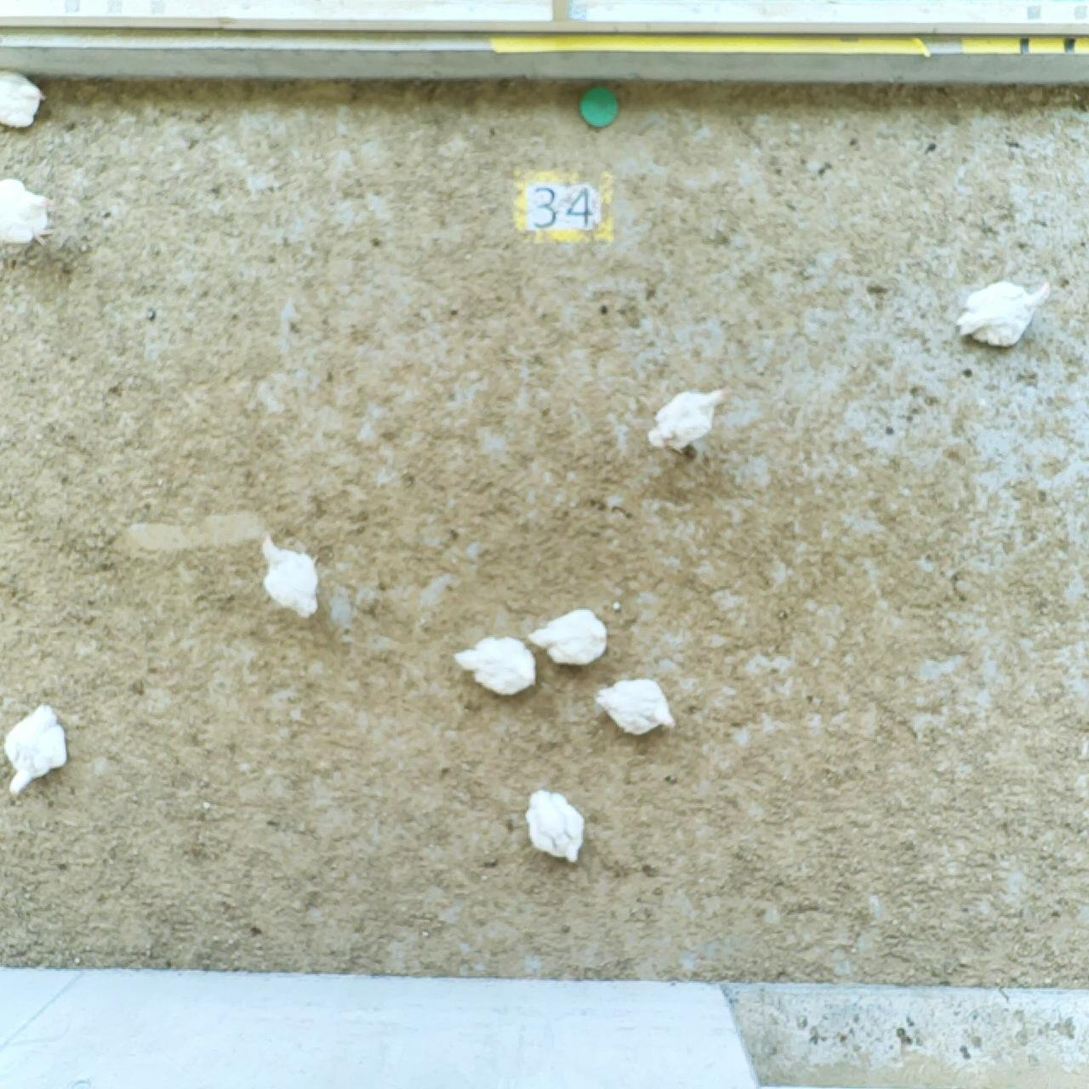chicken: (1, 702, 70, 805), (953, 279, 1052, 350), (257, 531, 322, 622), (647, 385, 729, 457), (451, 634, 538, 698), (527, 605, 610, 669), (593, 676, 676, 738), (525, 786, 585, 864), (1, 177, 58, 248), (1, 66, 47, 130)
